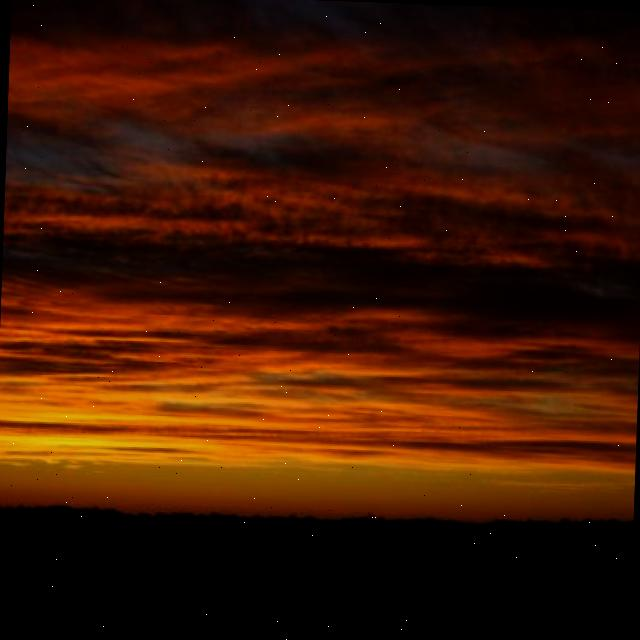As: (1, 13, 640, 473)
